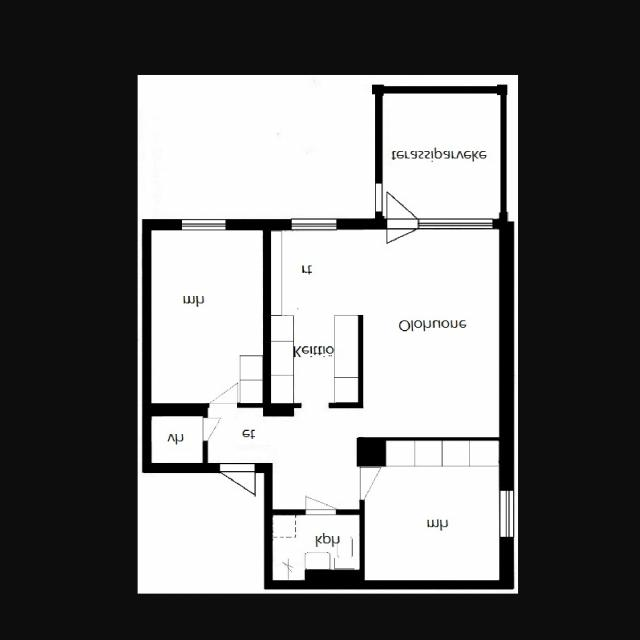door: (221, 463, 256, 508), (388, 187, 419, 230), (388, 219, 419, 261), (361, 467, 398, 500), (306, 478, 337, 514), (210, 374, 239, 408), (204, 418, 231, 440)
